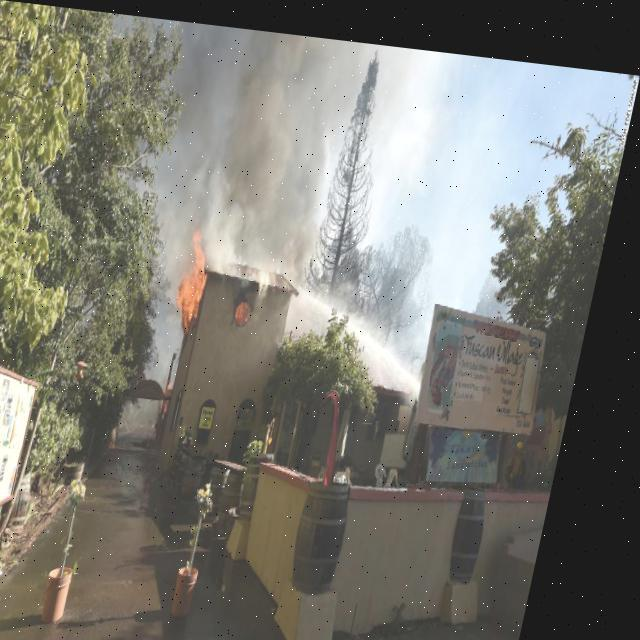Fire: (177, 216, 234, 332)
